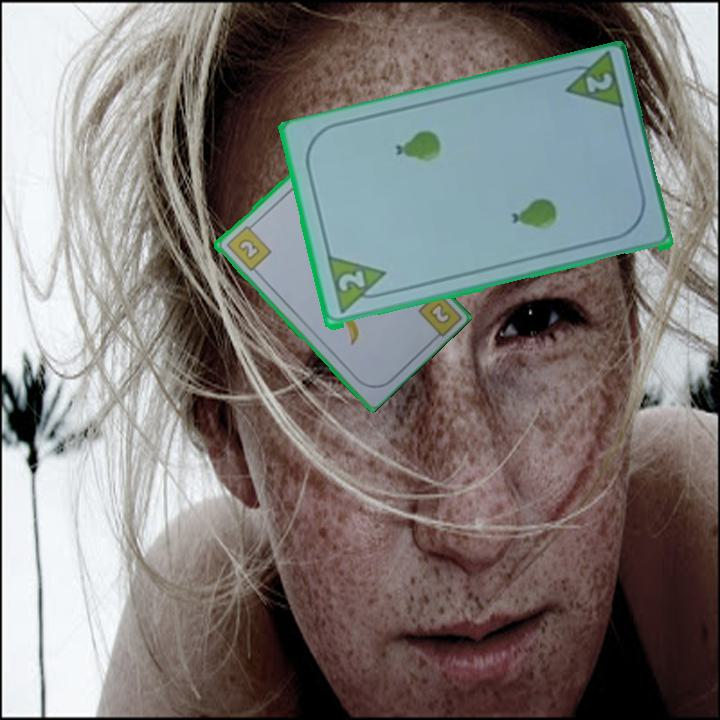2b: (222, 220, 274, 274), (425, 299, 454, 327)
2p: (555, 52, 627, 116), (334, 267, 368, 295)
